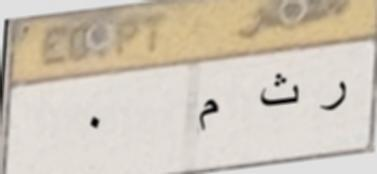0: (77, 106, 113, 141)
meem: (191, 92, 222, 136)
raa: (314, 76, 352, 122)
thaa: (255, 70, 303, 113)
